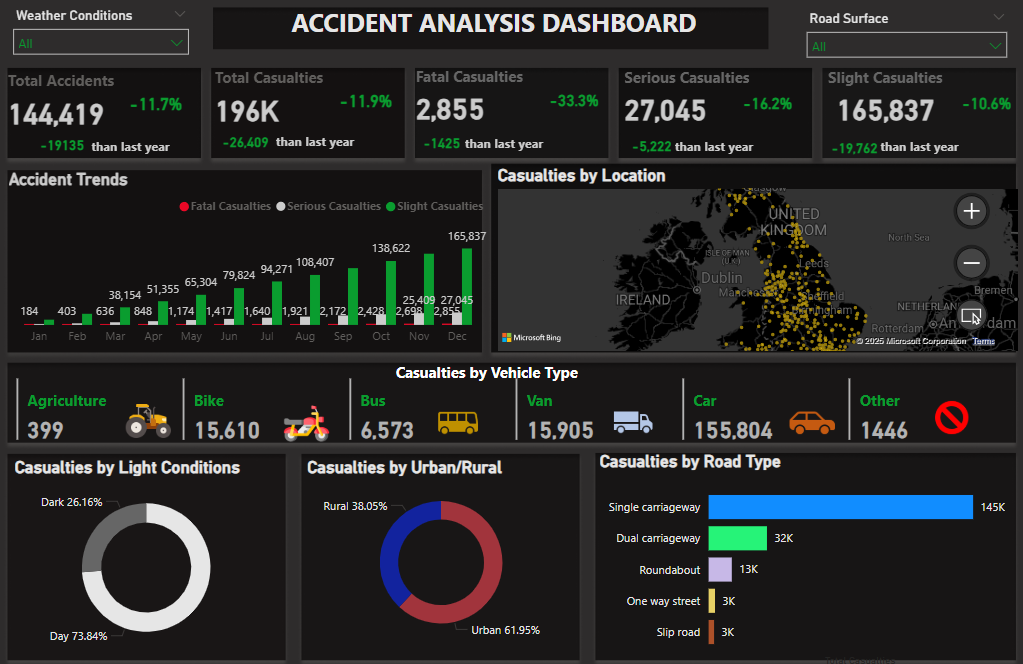

The dashboard page shown, as its layout file describes it:
{"tool":"powerbi","page":{"name":"Road Accident Dashboard","canvas":[1280,720],"ordinal":0},"visuals":[{"type":"cardVisual","fields":{"Data":["Data.Total Casualties"]},"box":[303.8,31.8,152.7,143.2],"z":0,"group":"g6"},{"type":"cardVisual","fields":{"Data":["Data.Total Accidents"]},"box":[81.1,35,152.7,143.2],"z":0,"group":"g5"},{"type":"donutChart","title":"Casualties by Light Conditions","fields":{"Y":["Data.CY Casualties"],"Category":["Data.Light_Conditions (groups)"]},"box":[100.2,491.5,292.7,216.3],"z":0},{"type":"cardVisual","fields":{"Data":["Data.YoY Casualties"]},"box":[437.4,71.6,127.2,62],"z":1000,"group":"g6"},{"type":"cardVisual","fields":{"Data":["Data.YoY Accidents"]},"box":[211.5,74.8,127.2,62],"z":1000,"group":"g5"},{"type":"donutChart","title":"Casualties by Urban/Rural","fields":{"Category":["Data.Urban_or_Rural_Area"],"Y":["Data.CY Casualties"]},"box":[415.1,491.5,297.4,205.2],"z":1000},{"type":"cardVisual","fields":{"Data":["Data.CY accident - PY"]},"box":[101.8,122.5,109.8,55.7],"z":2000,"group":"g5"},{"type":"barChart","title":"Casualties by Road Type","fields":{"Category":["Data.Road_Type"],"Y":["Data.CY Casualties"]},"box":[728.5,485.1,453.3,235.4],"z":2000},{"type":"cardVisual","fields":{"Data":["Data.CY - PY"]},"box":[311.8,66.8,181.3,162.2],"z":3000,"group":"g6"},{"type":"textbox","box":[182.9,141.6,112.9,36.6],"z":3000,"group":"g5"},{"type":"group","id":"g1","title":"Group 2","box":[101.8,400.8,1080,100.2],"z":3000},{"type":"textbox","box":[509,383.3,219.5,35],"z":4000},{"type":"map","title":"Casualties by Location","fields":{"Y":["Data.Latitude"],"X":["Data.Longitude"],"Category":["Data.Local_Authority_(District)"]},"box":[618.7,178.1,569.4,205.2],"z":5000},{"type":"clusteredColumnChart","title":"Accident Trends","fields":{"Category":["Calendar.Month"],"Y":["Data.Fatal Casualties","Data.Serious Casualties","Data.Slight Casualties"]},"box":[93.8,182.9,524.9,197.2],"z":6000},{"type":"textbox","box":[392.9,0,453.3,49.3],"z":7000},{"type":"cardVisual","fields":{"Data":["Data.Fatal Casualties"]},"box":[520.1,52.5,162.2,97],"z":8000,"group":"g4"},{"type":"group","id":"g2","title":"Group 3","box":[946.4,54.1,254.5,175],"z":8000},{"type":"group","id":"g3","title":"Group 4","box":[742.8,54.1,222.7,128.8],"z":9000},{"type":"group","id":"g4","title":"Group 5","box":[520.1,52.5,240.2,135.2],"z":10000},{"type":"cardVisual","fields":{"Data":["Data.Serious Casualties"]},"box":[742.8,54.1,189.3,95.4],"z":10000,"group":"g3"},{"type":"group","id":"g5","title":"Group 6","box":[81.1,35,257.7,143.2],"z":11000},{"type":"cardVisual","fields":{"Data":["Data.YoY Casualties"]},"box":[870,74.8,95.4,49.3],"z":11000,"group":"g3"},{"type":"group","id":"g6","title":"Group 7","box":[303.8,31.8,260.9,197.2],"z":11001},{"type":"textbox","box":[380.2,136.8,112.9,36.6],"z":11002},{"type":"slicer","fields":{"Values":["Data.Weather_Conditions (groups)"]},"box":[93.8,3.2,208.4,57.3],"z":11003},{"type":"slicer","fields":{"Values":["Data.Road_Surface_Conditions (groups)"]},"box":[946.4,6.4,235.4,57.3],"z":11004},{"type":"cardVisual","fields":{"Data":["Data.Slight Casualties"]},"box":[946.4,54.1,189.3,95.4],"z":12000,"group":"g2"},{"type":"cardVisual","fields":{"Data":["Data.YoY Casualties"]},"box":[1105.5,74.8,95.4,49.3],"z":13000,"group":"g2"},{"type":"cardVisual","fields":{"Data":["Data.YoY Casualties"]},"box":[663.3,72.3,96.7,49.3],"z":14000,"group":"g4"},{"type":"cardVisual","fields":{"Data":["Data.Agriculture","Data.Bike","Data.Bus","Data.Car","Data.Car1","Data.Other"]},"box":[101.8,400.8,1080,76.3],"z":19000,"group":"g1"},{"type":"image","box":[207.5,420.4,81.1,62],"z":21000,"group":"g7"},{"type":"image","box":[363.4,425.2,108.2,58.9],"z":22000,"group":"g7"},{"type":"image","box":[522.4,425.2,119.3,57.3],"z":23000,"group":"g7"},{"type":"cardVisual","fields":{"Data":["Data.Fatal Variance"]},"box":[528.1,111.4,87.5,76.3],"z":24000,"group":"g4"},{"type":"group","id":"g7","title":"Group 1","box":[207.5,407.7,936.9,93.8],"z":24000,"group":"g1"},{"type":"image","box":[929.6,407.7,63.6,93.8],"z":24000,"group":"g7"},{"type":"textbox","box":[585.3,138.4,112.9,36.6],"z":25000,"group":"g4"},{"type":"image","box":[727.6,425.2,85.9,55.7],"z":25000,"group":"g7"},{"type":"cardVisual","fields":{"Data":["Data.Serious Variance"]},"box":[750.8,124.1,154.3,58.9],"z":26000,"group":"g3"},{"type":"image","box":[1080.7,420.4,63.6,55.7],"z":26000,"group":"g7"},{"type":"textbox","box":[809.6,141.6,112.9,36.6],"z":27000,"group":"g3"},{"type":"cardVisual","fields":{"Data":["Data.Slight Variance"]},"box":[965.5,81.1,146.3,147.9],"z":28000,"group":"g2"},{"type":"textbox","box":[1030.7,141.6,112.9,36.6],"z":29000,"group":"g2"}]}

Visuals, with their boxes on the page's 1280x720 design canvas (x1, y1, x2, y2). These are canvas units, not pixel positions in the 1023x664 screenshot, which may show the page scaled, cropped or inside an application window:
cardVisual - Data.Total Casualties: bbox=(304, 32, 456, 175)
cardVisual - Data.Total Accidents: bbox=(81, 35, 234, 178)
"Casualties by Light Conditions" donutChart: bbox=(100, 492, 393, 708)
cardVisual - Data.YoY Casualties: bbox=(437, 72, 565, 134)
cardVisual - Data.YoY Accidents: bbox=(212, 75, 339, 137)
"Casualties by Urban/Rural" donutChart: bbox=(415, 492, 712, 697)
cardVisual - Data.CY accident - PY: bbox=(102, 122, 212, 178)
"Casualties by Road Type" barChart: bbox=(728, 485, 1182, 720)
cardVisual - Data.CY - PY: bbox=(312, 67, 493, 229)
textbox: bbox=(183, 142, 296, 178)
"Group 2" group: bbox=(102, 401, 1182, 501)
textbox: bbox=(509, 383, 728, 418)
"Casualties by Location" map: bbox=(619, 178, 1188, 383)
"Accident Trends" clusteredColumnChart: bbox=(94, 183, 619, 380)
textbox: bbox=(393, 0, 846, 49)
cardVisual - Data.Fatal Casualties: bbox=(520, 52, 682, 150)
"Group 3" group: bbox=(946, 54, 1201, 229)
"Group 4" group: bbox=(743, 54, 966, 183)
"Group 5" group: bbox=(520, 52, 760, 188)
cardVisual - Data.Serious Casualties: bbox=(743, 54, 932, 150)
"Group 6" group: bbox=(81, 35, 339, 178)
cardVisual - Data.YoY Casualties: bbox=(870, 75, 965, 124)
"Group 7" group: bbox=(304, 32, 565, 229)
textbox: bbox=(380, 137, 493, 173)
slicer - Data.Weather_Conditions (groups): bbox=(94, 3, 302, 60)
slicer - Data.Road_Surface_Conditions (groups): bbox=(946, 6, 1182, 64)
cardVisual - Data.Slight Casualties: bbox=(946, 54, 1136, 150)
cardVisual - Data.YoY Casualties: bbox=(1106, 75, 1201, 124)
cardVisual - Data.YoY Casualties: bbox=(663, 72, 760, 122)
cardVisual - Data.Agriculture x Data.Bike: bbox=(102, 401, 1182, 477)
image: bbox=(208, 420, 289, 482)
image: bbox=(363, 425, 472, 484)
image: bbox=(522, 425, 642, 482)
cardVisual - Data.Fatal Variance: bbox=(528, 111, 616, 188)
"Group 1" group: bbox=(208, 408, 1144, 502)
image: bbox=(930, 408, 993, 502)
textbox: bbox=(585, 138, 698, 175)
image: bbox=(728, 425, 814, 481)
cardVisual - Data.Serious Variance: bbox=(751, 124, 905, 183)
image: bbox=(1081, 420, 1144, 476)
textbox: bbox=(810, 142, 922, 178)
cardVisual - Data.Slight Variance: bbox=(966, 81, 1112, 229)
textbox: bbox=(1031, 142, 1144, 178)
